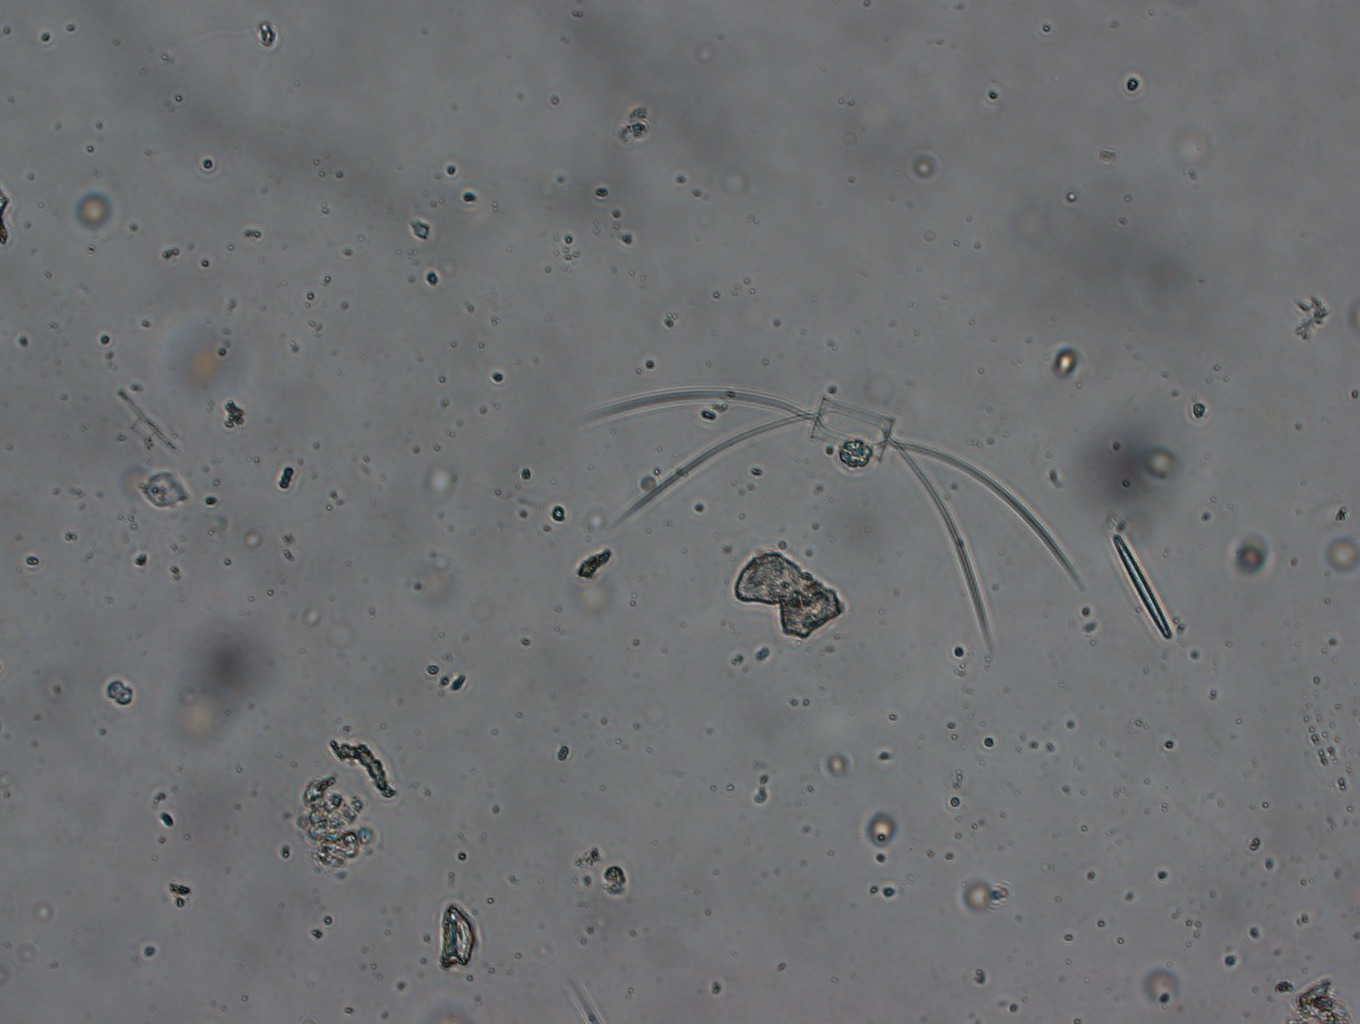chaetoceros: (582, 374, 1091, 650)
